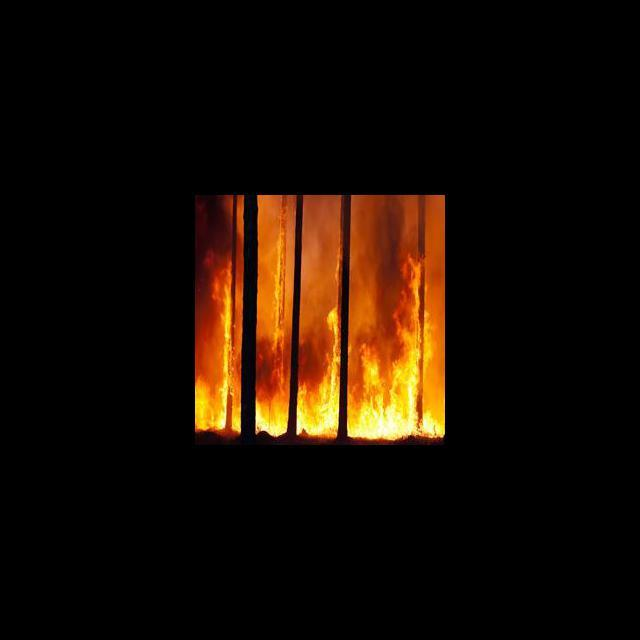Fire: (195, 227, 444, 437)
